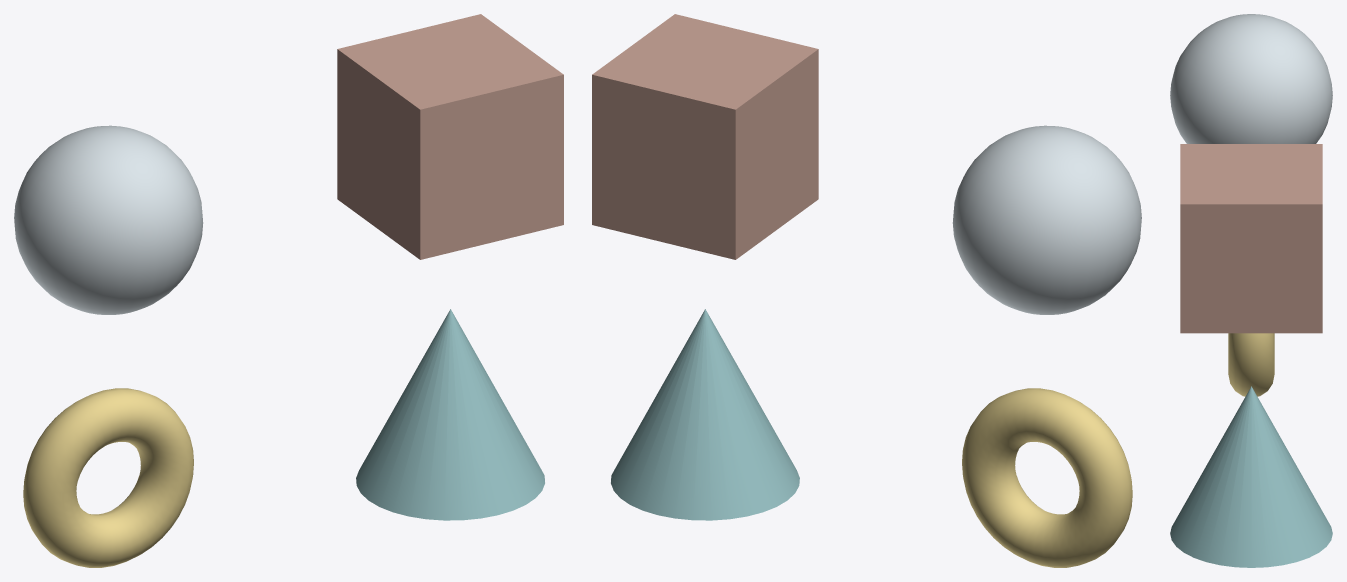
Rendered from interaction-demo.glb.
The picture shows the model from 3 angles, left to right: view 1: azimuth 30°, elevation 25°; view 2: azimuth 150°, elevation 25°; view 3: azimuth 270°, elevation 25°; orthographic projection. The views are drawn at different scales.
Visible parts, largest first — view 1: demo-box, demo-sphere, demo-cone, demo-torus; view 2: demo-box, demo-sphere, demo-cone, demo-torus; view 3: demo-box, demo-sphere, demo-cone, demo-torus.
Part boxes in pixels (<box>): demo-box: <box>337,14,563,259</box>; demo-sphere: <box>14,125,203,314</box>; demo-cone: <box>356,309,544,520</box>; demo-torus: <box>23,388,193,567</box>; demo-box: <box>592,14,818,259</box>; demo-sphere: <box>952,125,1141,314</box>; demo-cone: <box>611,309,799,520</box>; demo-torus: <box>962,388,1132,567</box>; demo-box: <box>1180,144,1322,333</box>; demo-sphere: <box>1170,14,1332,143</box>; demo-cone: <box>1170,386,1332,567</box>; demo-torus: <box>1228,333,1274,396</box>.
Size of the model in its own units: 3.7 by 3 by 1.2.
